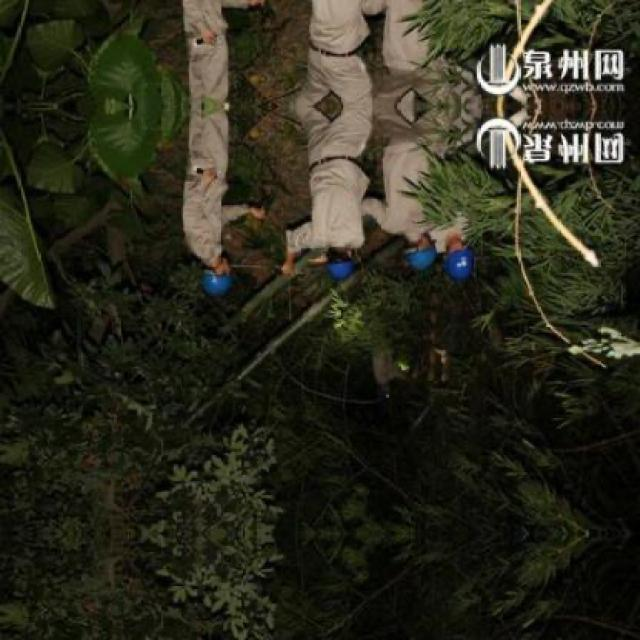con casco: (166, 231, 275, 298), (430, 216, 472, 296), (306, 226, 358, 283), (389, 220, 432, 264)
